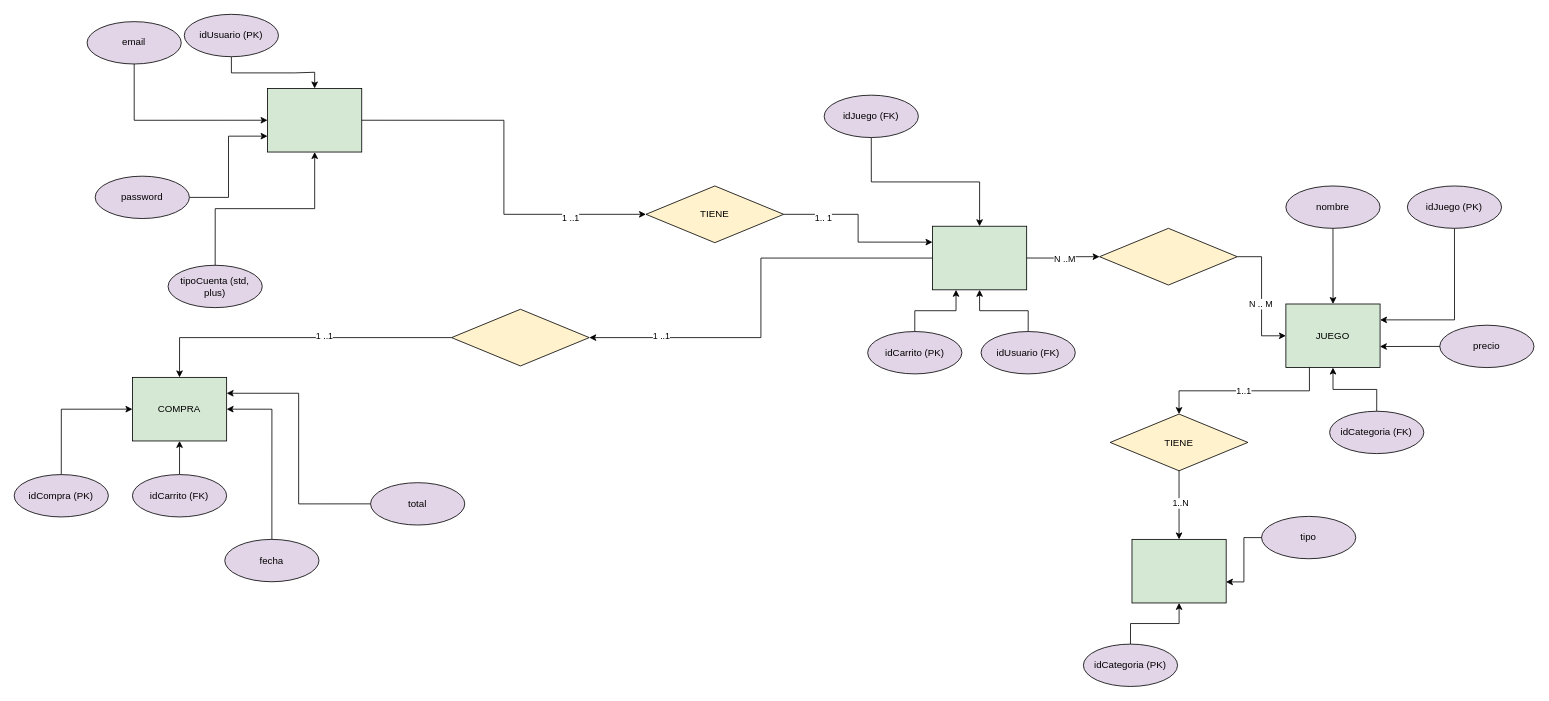
Some shapes in this 1549 by 701 pixel diagram are drawn without their labels. Here are the shapes that lost their labels. From the top down, the box of each, then its label:
(267, 88, 362, 152): USUARIO
(932, 225, 1027, 290): CARRITO
(1099, 228, 1237, 285): CONTIENE
(451, 308, 589, 366): GENERA
(1131, 539, 1226, 603): CATEGORIA
